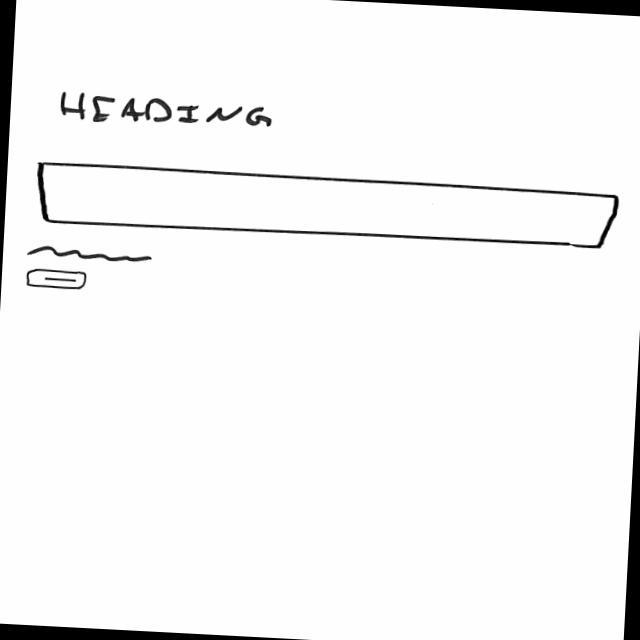container: (32, 160, 622, 254)
icon-button: (25, 268, 89, 292)
label: (51, 88, 277, 136)
text: (27, 245, 154, 268)
